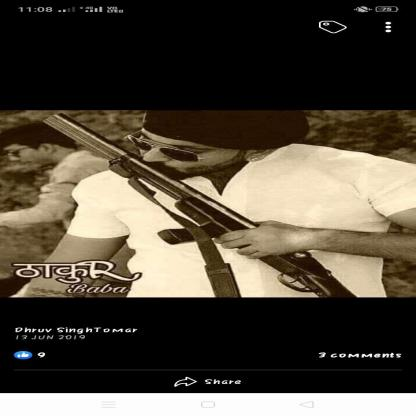rifle: (38, 112, 356, 298)
